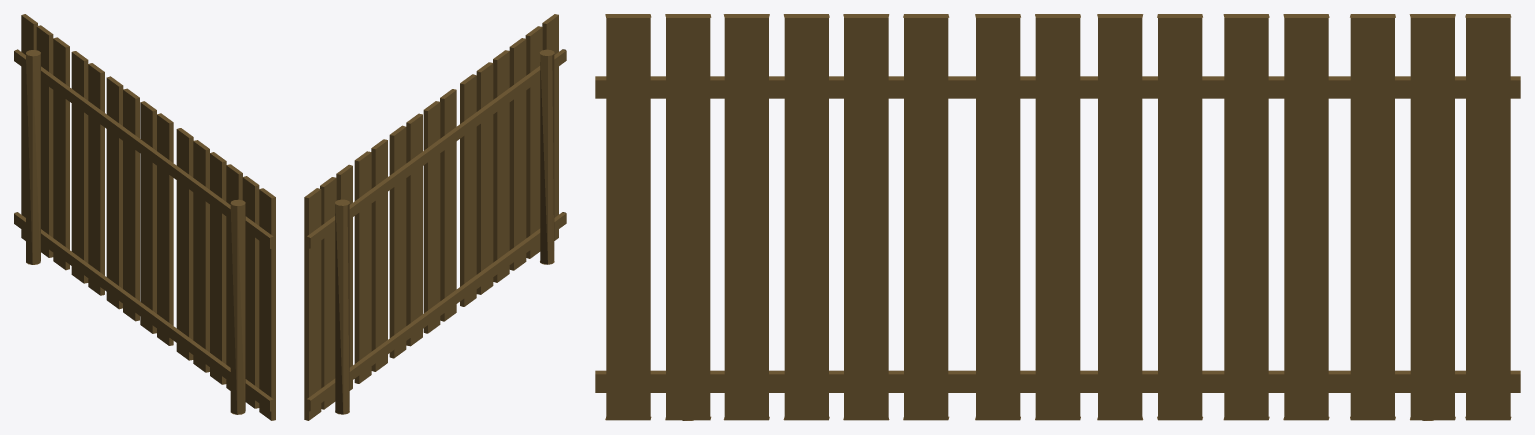
Rendered from fence2.fbx.
3 views of the same model, side by side, from view 1: azimuth 30°, elevation 25°; view 2: azimuth 150°, elevation 25°; view 3: azimuth 270°, elevation 25° (orthographic). The views are drawn at different scales.
Visible parts, largest first — view 1: wooden fence_wooden fence_0; view 2: wooden fence_wooden fence_0; view 3: wooden fence_wooden fence_0.
Boxes of the visible parts, x1,y1,x2,y2 form: wooden fence_wooden fence_0: (14,14,275,420); wooden fence_wooden fence_0: (304,14,566,420); wooden fence_wooden fence_0: (595,14,1520,420).
Size of the model in its own units: 0.2976 by 3 by 6.13.
